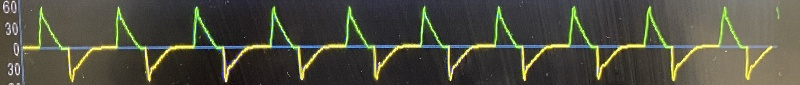normal_flow: (19, 0, 786, 85)
